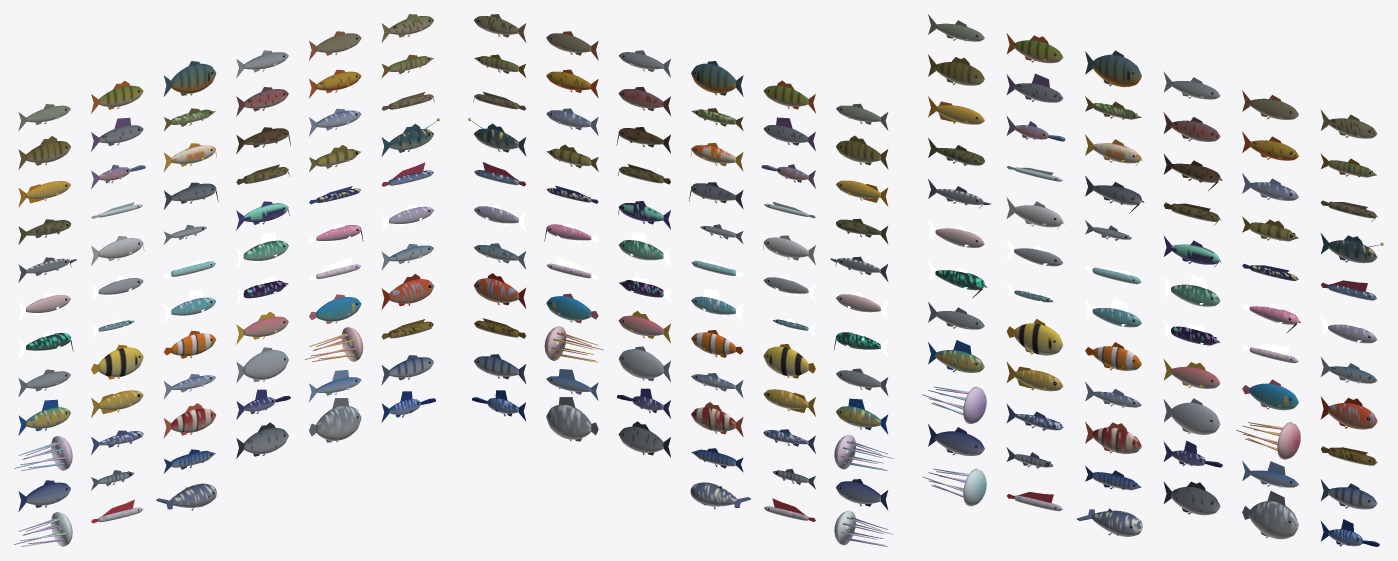
Rendered from fish.glb.
The picture shows the model from 3 angles, left to right: view 1: azimuth 30°, elevation 25°; view 2: azimuth 150°, elevation 25°; view 3: azimuth 330°, elevation 25°; orthographic projection. The views are drawn at different scales.
Parts seen in each view (by area): view 1: Fish_sunfish_mola, Fish_bluegill, Fish_silver_pomfret, Fish_butterfly_fish, Fish_giant_trevally, Fish_coral_grouper, Fish_abyss_lionfish, Fish_glass_octopus, Fish_prism_jellyfish, Fish_lantern_squid, Fish_pearl_whale, Fish_sailfin_dorado (+47 smaller); view 2: Fish_sunfish_mola, Fish_silver_pomfret, Fish_bluegill, Fish_butterfly_fish, Fish_giant_trevally, Fish_glass_octopus, Fish_coral_grouper, Fish_lantern_squid, Fish_prism_jellyfish, Fish_abyss_lionfish, Fish_pearl_whale, Fish_sailfin_dorado (+46 smaller); view 3: Fish_sunfish_mola, Fish_bluegill, Fish_silver_pomfret, Fish_butterfly_fish, Fish_giant_trevally, Fish_coral_grouper, Fish_abyss_lionfish, Fish_pearl_whale, Fish_glass_octopus, Fish_prism_jellyfish, Fish_lantern_squid, Fish_sailfin_dorado (+50 smaller).
Part boxes in pixels (bbox=[...]): Fish_sunfish_mola: bbox=[309, 398, 361, 442]; Fish_bluegill: bbox=[164, 61, 216, 96]; Fish_silver_pomfret: bbox=[236, 347, 288, 382]; Fish_butterfly_fish: bbox=[91, 344, 143, 379]; Fish_giant_trevally: bbox=[236, 422, 288, 458]; Fish_coral_grouper: bbox=[381, 274, 434, 309]; Fish_abyss_lionfish: bbox=[163, 403, 216, 438]; Fish_glass_octopus: bbox=[14, 512, 72, 546]; Fish_prism_jellyfish: bbox=[14, 436, 72, 470]; Fish_lantern_squid: bbox=[304, 327, 363, 361]; Fish_pearl_whale: bbox=[156, 483, 216, 510]; Fish_sailfin_dorado: bbox=[18, 399, 70, 435]; Fish_sunfish_mola: bbox=[546, 397, 598, 441]; Fish_silver_pomfret: bbox=[618, 346, 670, 381]; Fish_bluegill: bbox=[691, 61, 743, 96]; Fish_butterfly_fish: bbox=[763, 344, 815, 378]; Fish_giant_trevally: bbox=[618, 421, 670, 457]; Fish_glass_octopus: bbox=[834, 510, 893, 546]; Fish_coral_grouper: bbox=[474, 273, 526, 308]; Fish_lantern_squid: bbox=[544, 326, 603, 362]; Fish_prism_jellyfish: bbox=[834, 434, 893, 470]; Fish_abyss_lionfish: bbox=[691, 402, 743, 436]; Fish_pearl_whale: bbox=[690, 482, 750, 509]; Fish_sailfin_dorado: bbox=[836, 398, 888, 434]; Fish_sunfish_mola: bbox=[1242, 491, 1298, 539]; Fish_bluegill: bbox=[1085, 50, 1141, 87]; Fish_silver_pomfret: bbox=[1163, 398, 1220, 434]; Fish_butterfly_fish: bbox=[1006, 319, 1063, 355]; Fish_giant_trevally: bbox=[1163, 481, 1220, 515]; Fish_coral_grouper: bbox=[1320, 396, 1377, 429]; Fish_abyss_lionfish: bbox=[1085, 421, 1141, 453]; Fish_pearl_whale: bbox=[1077, 508, 1142, 536]; Fish_glass_octopus: bbox=[922, 468, 986, 506]; Fish_prism_jellyfish: bbox=[922, 386, 986, 424]; Fish_lantern_squid: bbox=[1236, 422, 1300, 459]; Fish_sailfin_dorado: bbox=[928, 340, 984, 372].
Size of the model in its own units: 9.32 by 9.53 by 0.68.
